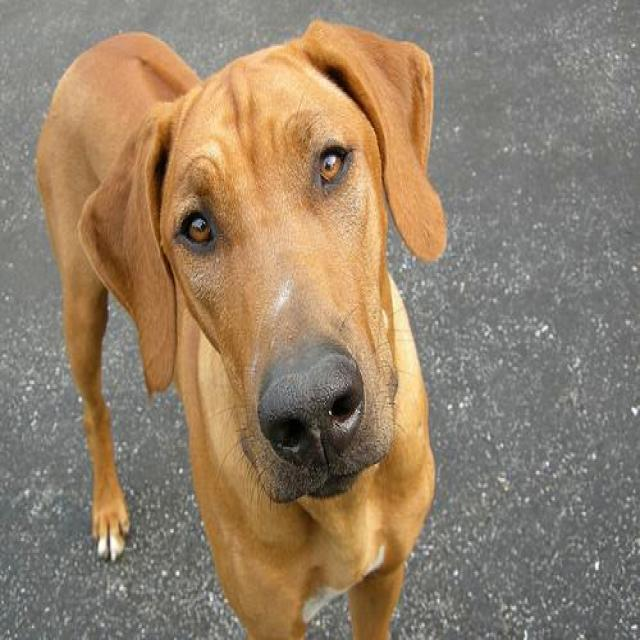rhodesian_ridgeback: (34, 19, 448, 638)
